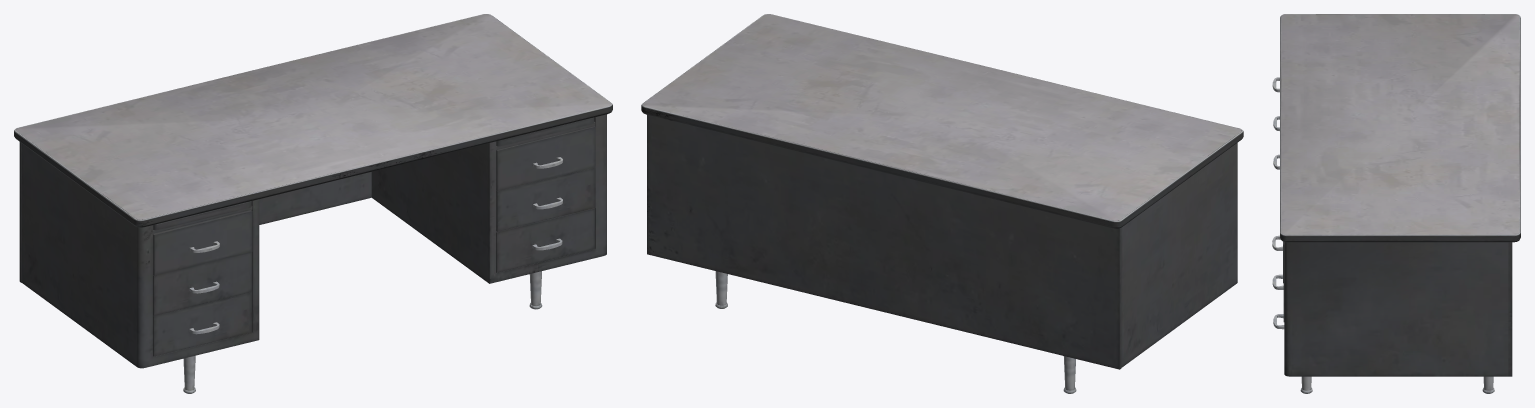
The model's file is desk.glb.
3 views of the same model, side by side, from view 1: azimuth 30°, elevation 25°; view 2: azimuth 150°, elevation 25°; view 3: azimuth 270°, elevation 25° (orthographic). The views are drawn at different scales.
Visible parts, largest first — view 1: metal_office_desk_drawer_06; view 2: metal_office_desk_drawer_06; view 3: metal_office_desk_drawer_06.
Boxes of the visible parts, x1,y1,x2,y2 form: metal_office_desk_drawer_06: (14,14,612,393); metal_office_desk_drawer_06: (641,14,1243,393); metal_office_desk_drawer_06: (1272,14,1520,393).
Size of the model in its own units: 2 by 0.7874 by 0.9471.
Materials: 1 (1 with a texture image).
